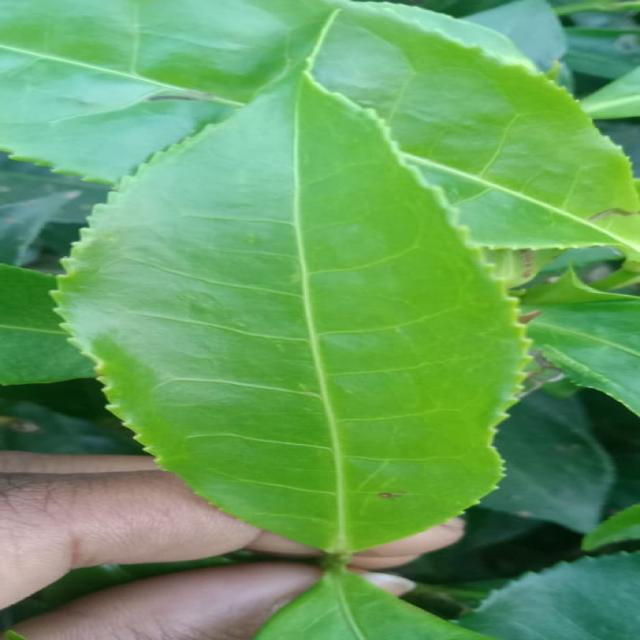Category B 2-4 days: (41, 82, 595, 572)
